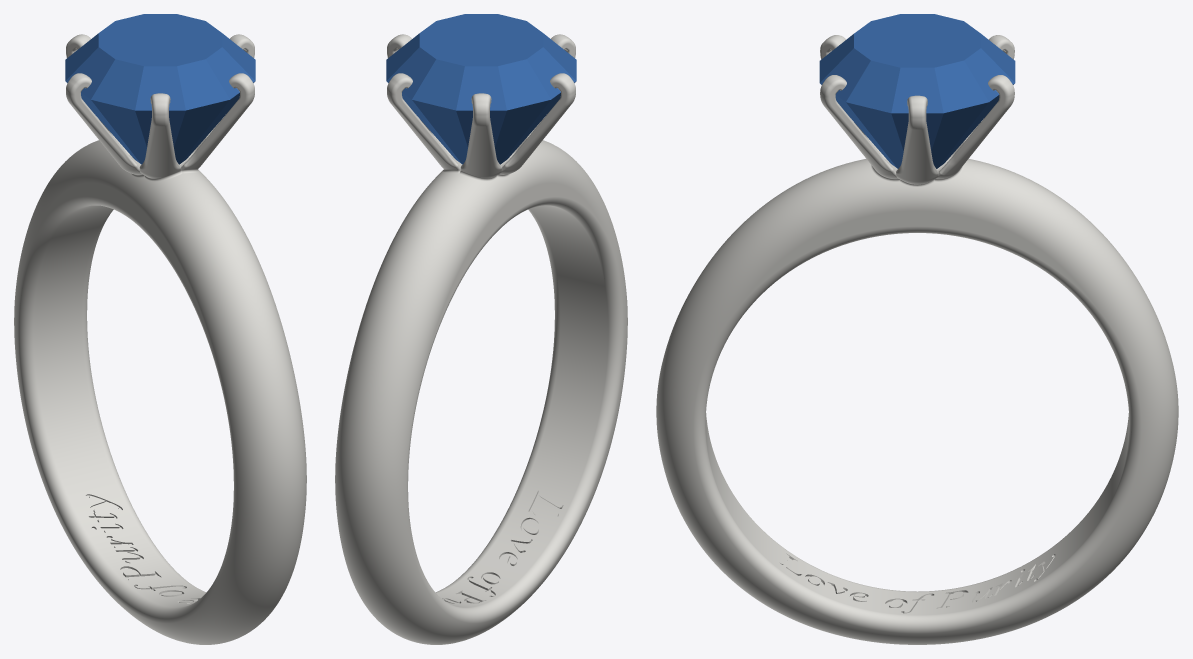
3 renders of one model, left to right at view 1: azimuth 30°, elevation 25°; view 2: azimuth 150°, elevation 25°; view 3: azimuth 270°, elevation 25°, orthographic. The views are drawn at different scales.
Visible parts, largest first — view 1: 零件1, Diamond; view 2: 零件1, Diamond; view 3: 零件1, Diamond.
Boxes of the visible parts, <box> form: 零件1: <box>14,34,306,644</box>; Diamond: <box>65,14,255,164</box>; 零件1: <box>335,34,627,644</box>; Diamond: <box>386,14,576,164</box>; 零件1: <box>656,35,1178,644</box>; Diamond: <box>819,14,1015,168</box>.
Size of the model in its own units: 0.0096 by 0.0289 by 0.0228.
